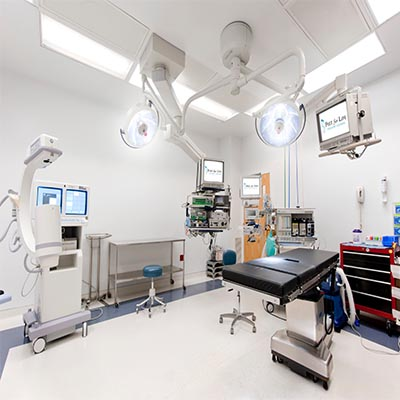bedside_monitor: (316, 99, 350, 143), (34, 182, 65, 216), (64, 184, 90, 223), (204, 159, 224, 183), (242, 178, 261, 196)
chair: (219, 250, 259, 334), (135, 264, 167, 319)
medical_drawer: (333, 235, 400, 340)
operating_bed: (222, 247, 338, 392)
surgical_light: (254, 99, 307, 147), (118, 98, 159, 150)
utility_cart: (103, 235, 189, 296)
